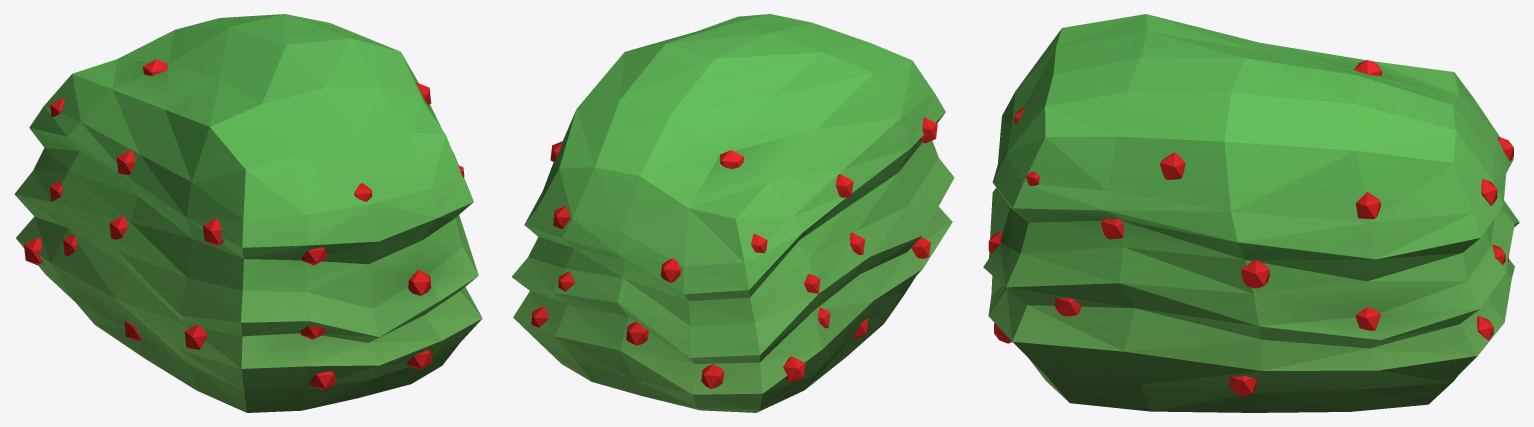
Rendered from bush_berry.glb.
3 renders of one model, left to right at view 1: azimuth 30°, elevation 25°; view 2: azimuth 150°, elevation 25°; view 3: azimuth 270°, elevation 25°, orthographic. The views are drawn at different scales.
Visible parts, largest first — view 1: bush_berry; view 2: bush_berry; view 3: bush_berry.
Part boxes in pixels (<box>): bush_berry: <box>14,14,482,412</box>; bush_berry: <box>512,14,954,412</box>; bush_berry: <box>983,14,1519,412</box>.
Bounding box in the file's own units: 1.19 × 1 × 1.59.
Materials: 1 (1 with a texture image).
